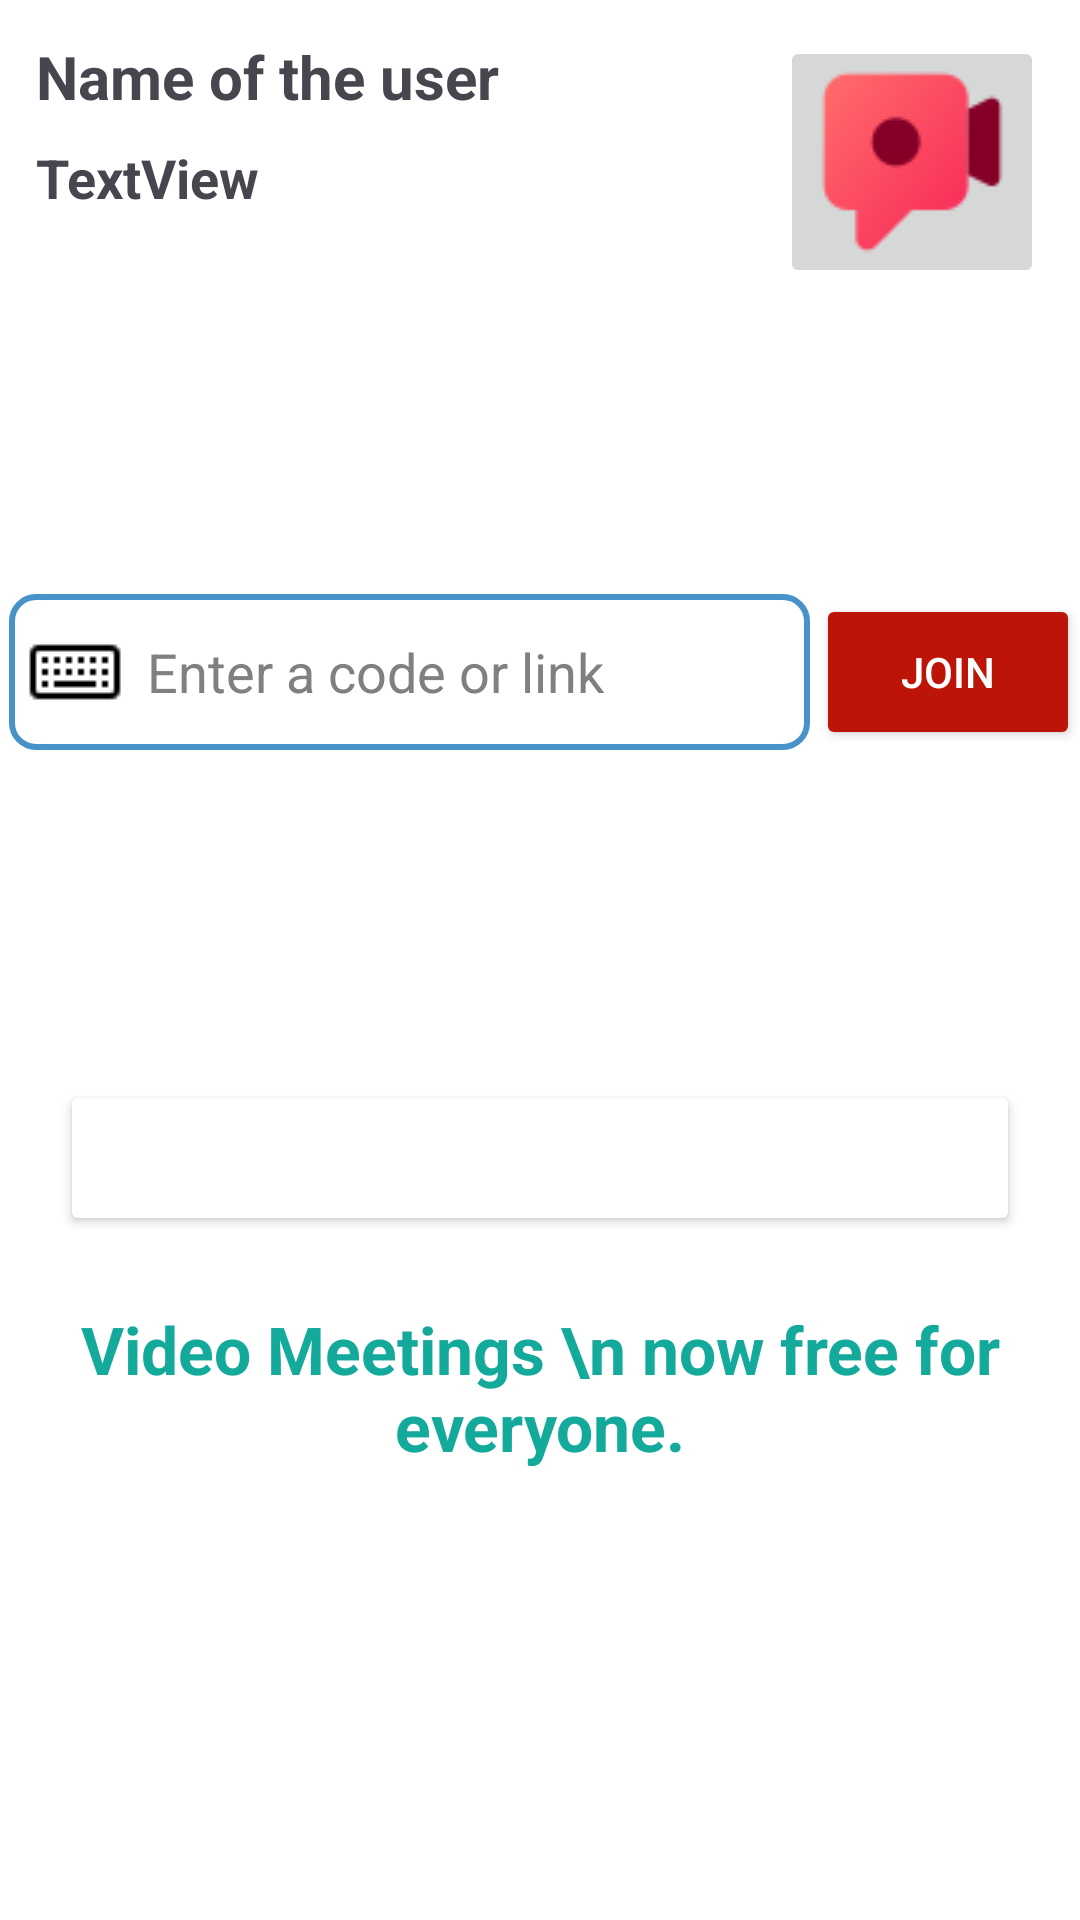

Icons on this 1080 × 1920 Android screen, each with its box as (x1, y1, x2, y2):
video call: (792, 54, 1032, 270)
